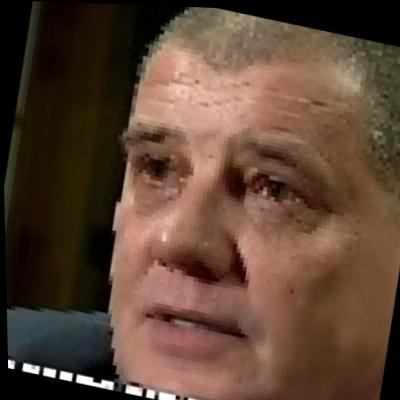sad: (71, 5, 400, 400)
